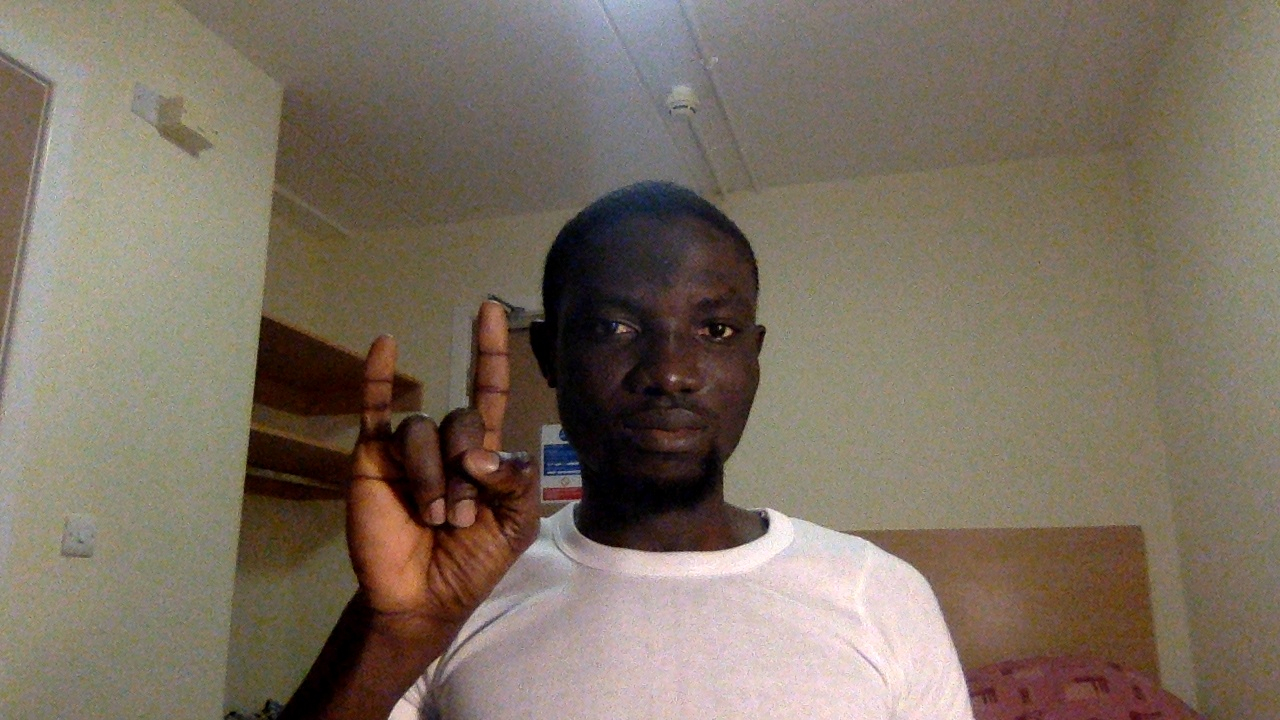I Love You: (344, 296, 555, 647)
